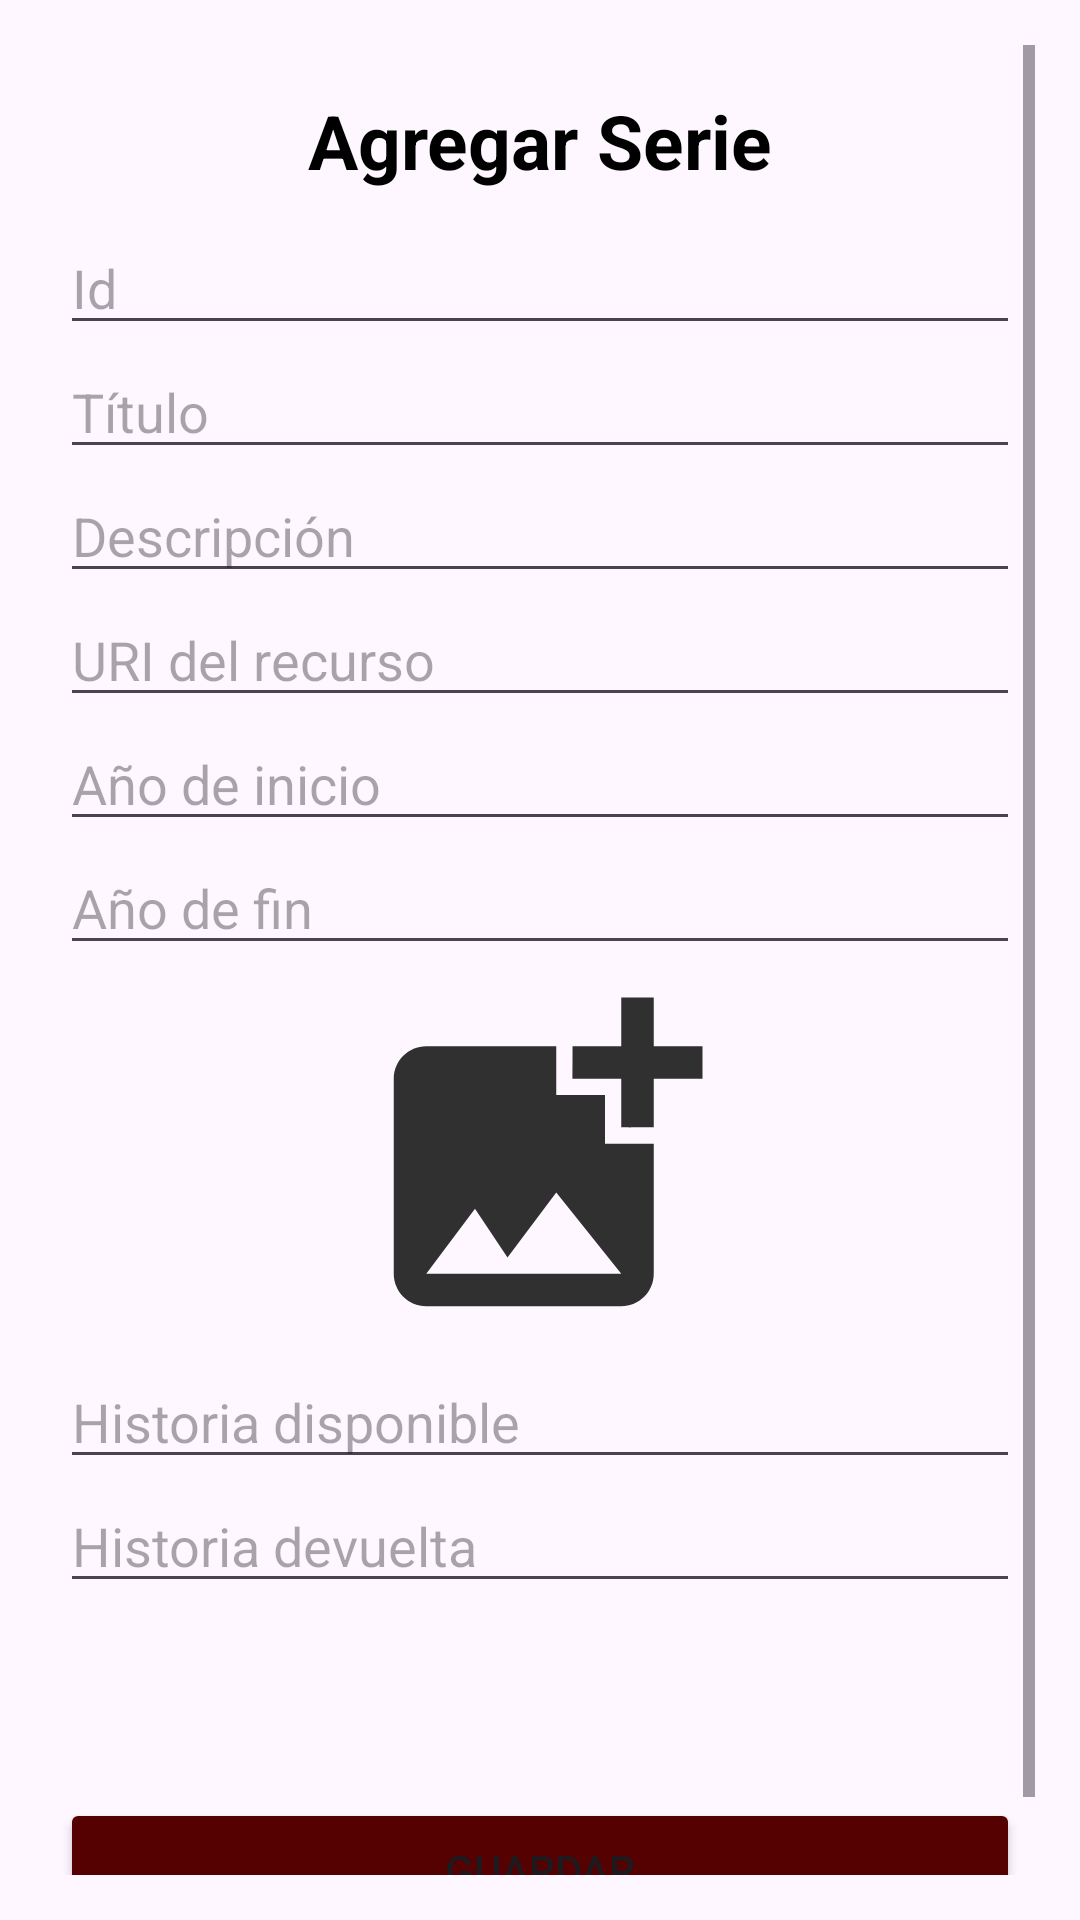

Locate icon controls on the screen. Image size 1080w x 1920h, boxes as (x1, y1, x2, y2).
add photo: (393, 997, 703, 1307)
